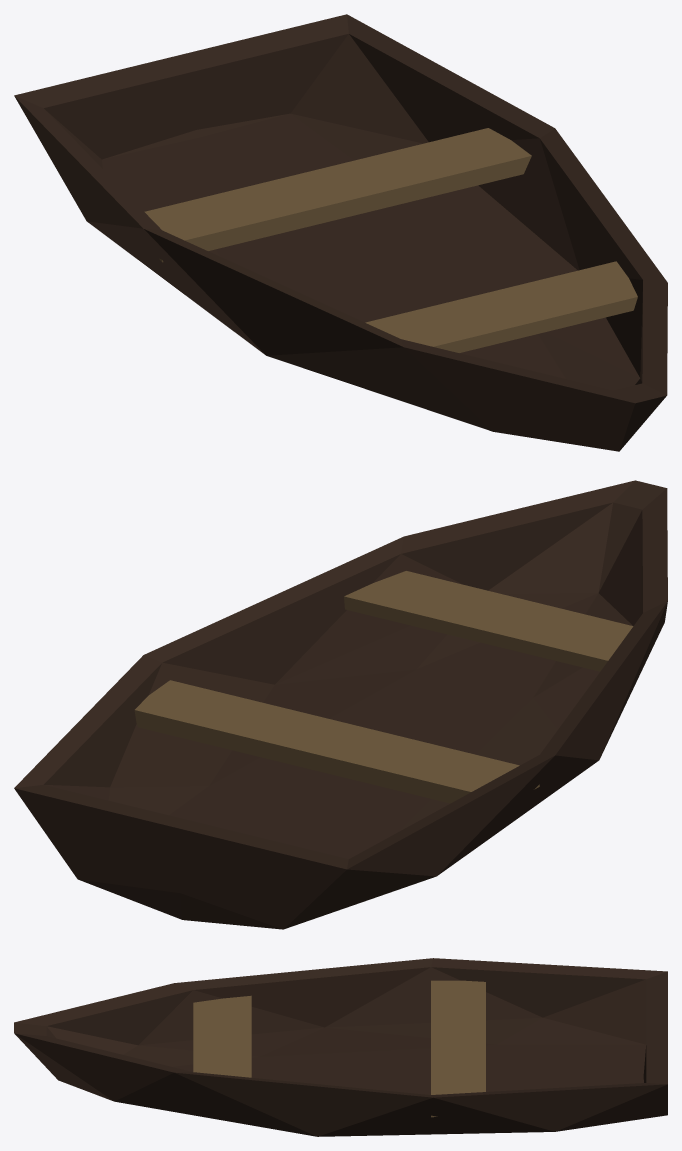
The model's file is island_rowboat.fbx.
3 renders of one model, top to bottom at view 1: azimuth 30°, elevation 25°; view 2: azimuth 150°, elevation 25°; view 3: azimuth 270°, elevation 25°, orthographic. The views are drawn at different scales.
Parts seen in each view (by area): view 1: Icosphere.001; view 2: Icosphere.001; view 3: Icosphere.001.
Boxes of the visible parts, left/top/right/bottom form: Icosphere.001: left=14, top=14, right=667, bottom=451; Icosphere.001: left=14, top=480, right=667, bottom=929; Icosphere.001: left=14, top=958, right=667, bottom=1136.
Size of the model in its own units: 1.63 by 0.4276 by 3.24.
